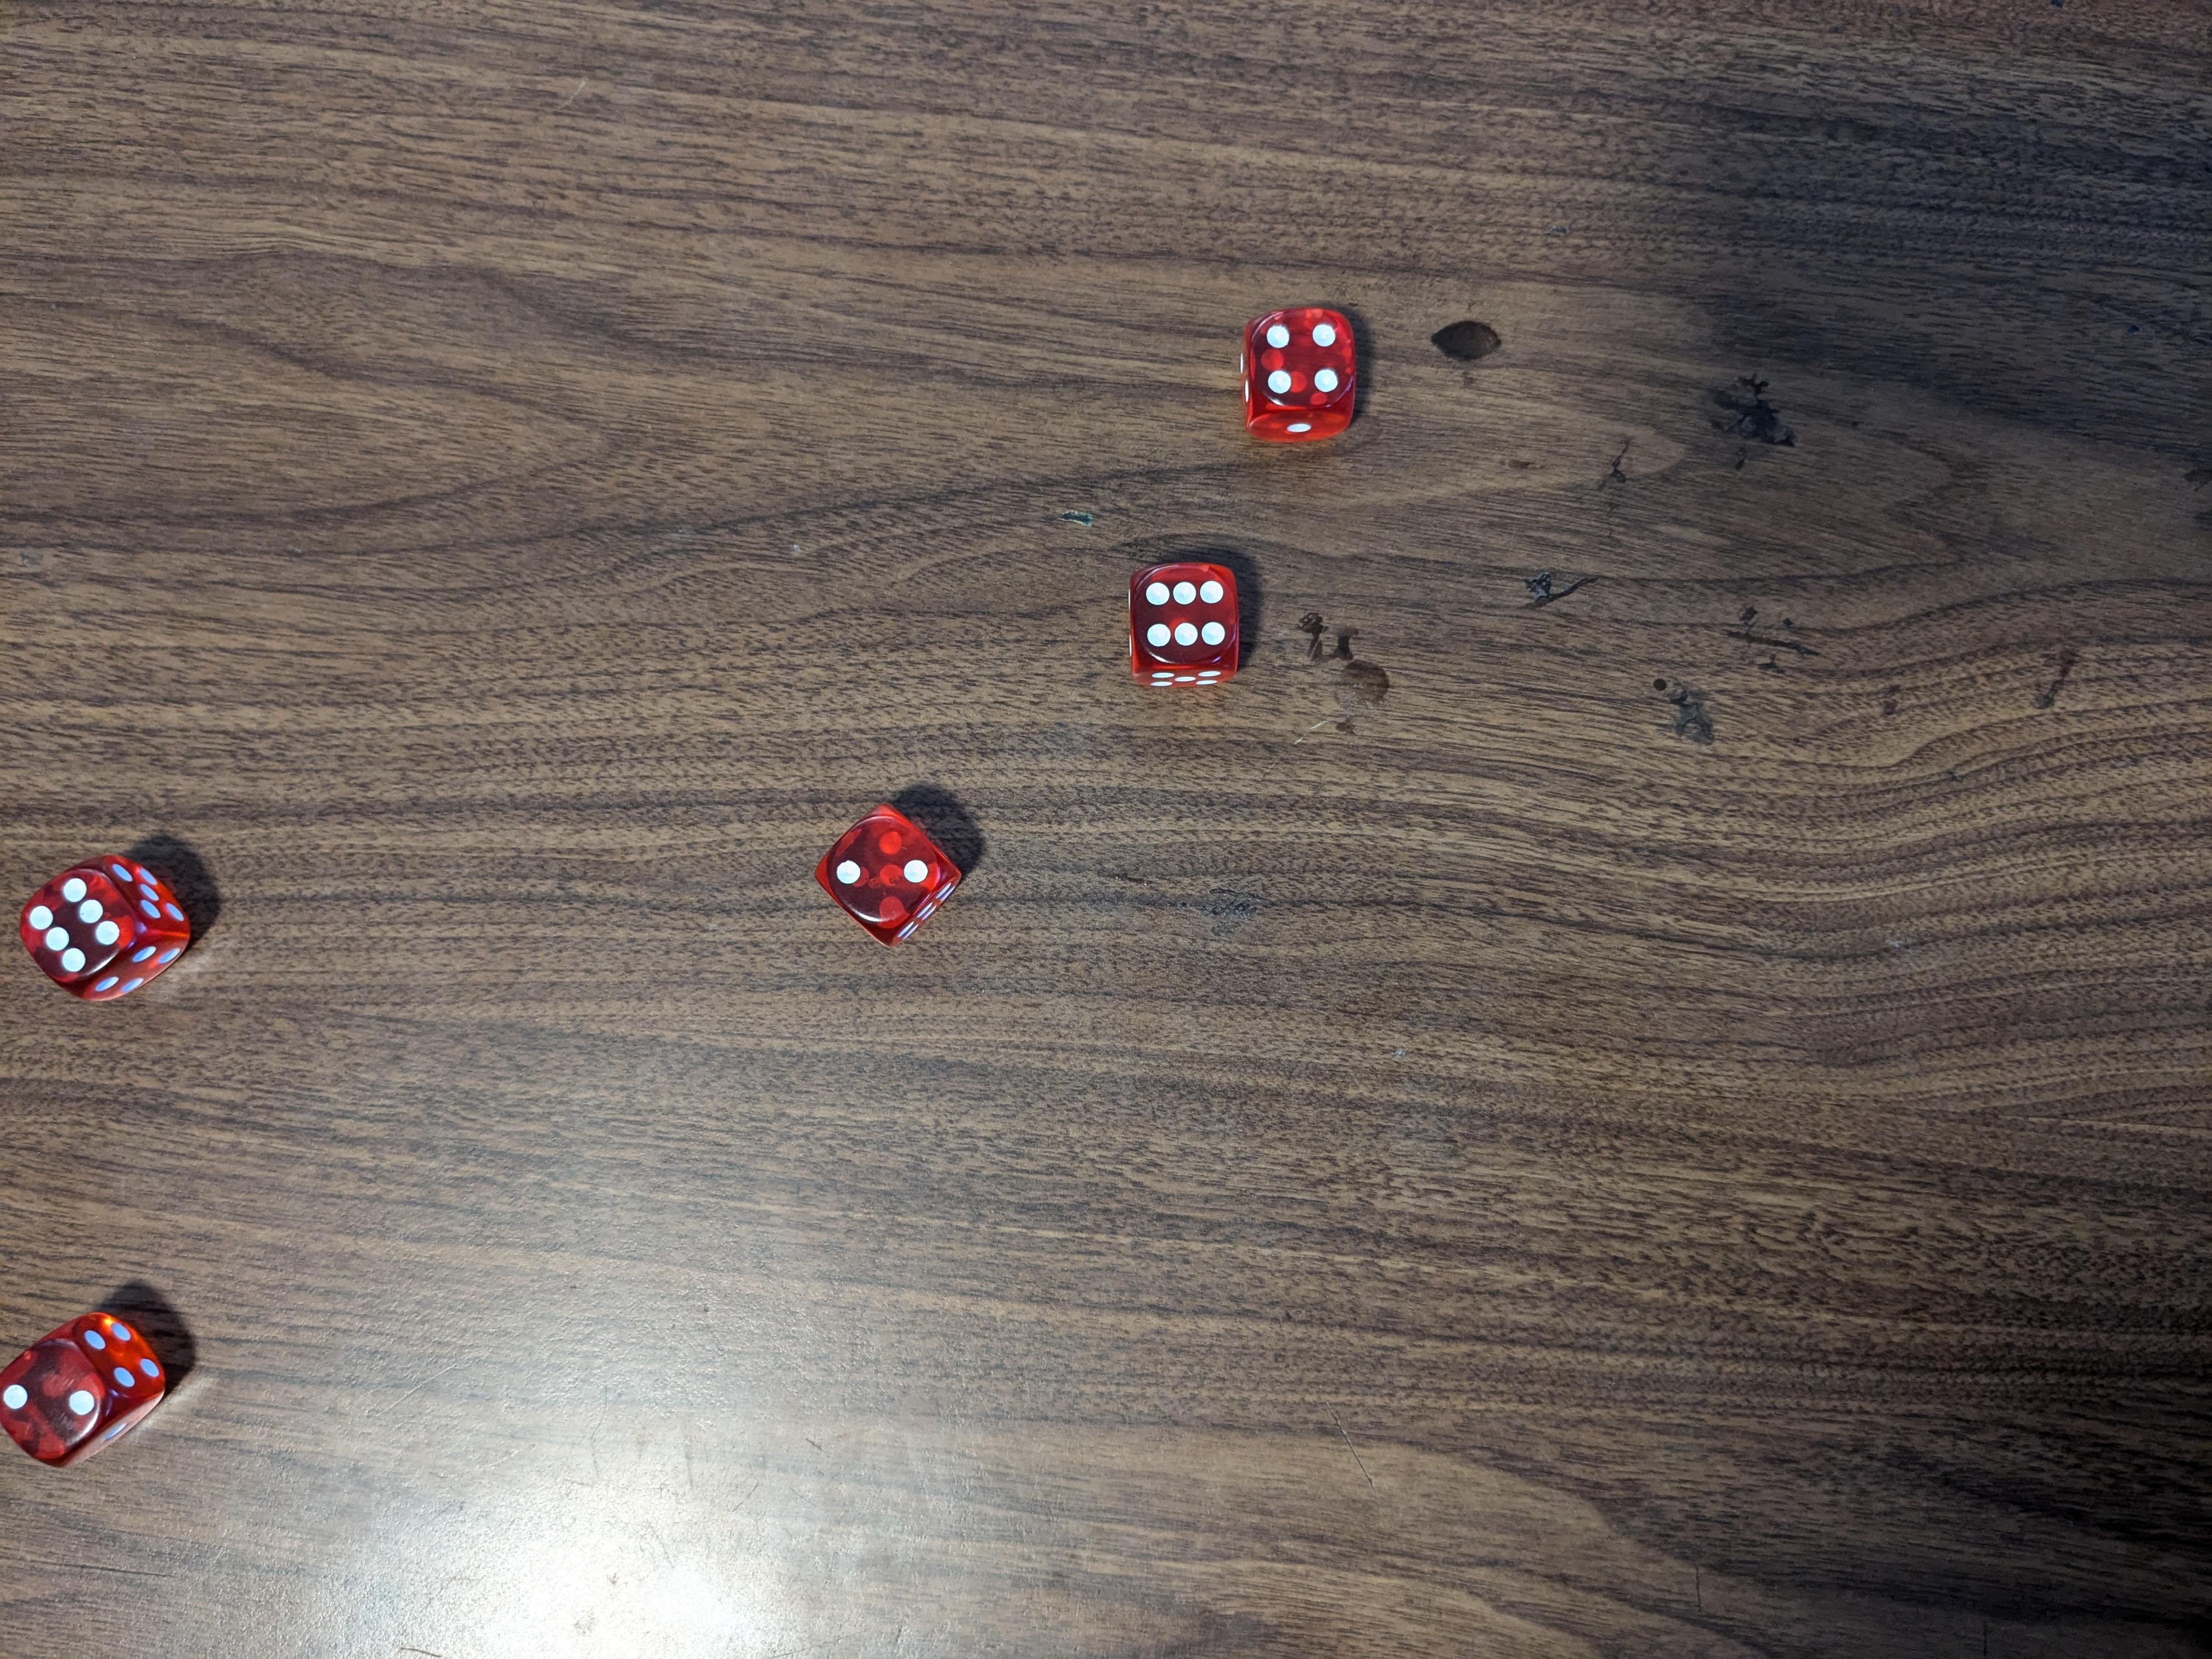four: (1244, 301, 1352, 439)
six: (17, 857, 195, 1011), (1123, 556, 1251, 690)
two: (0, 1300, 174, 1474), (815, 796, 967, 953)
